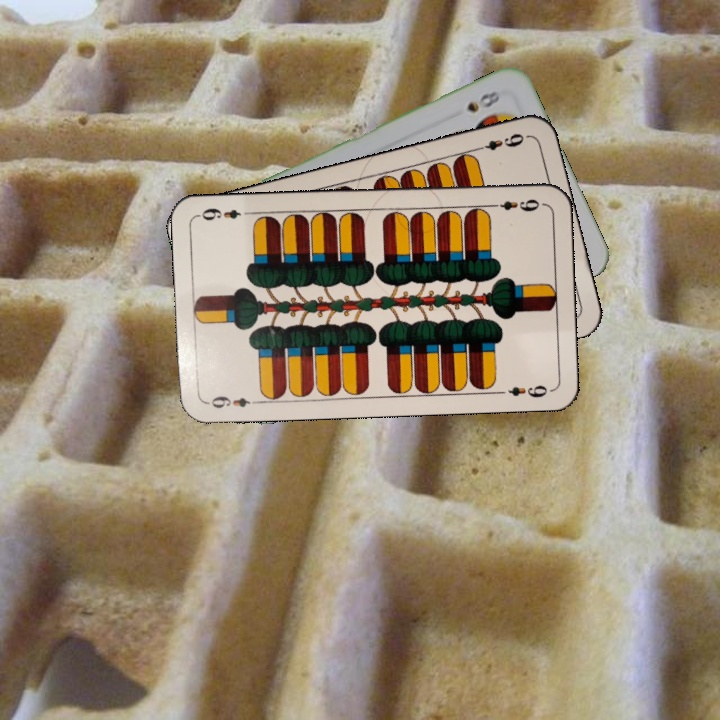E9: (471, 129, 530, 154), (203, 392, 262, 411), (486, 194, 542, 214)
S8: (463, 87, 503, 116)
